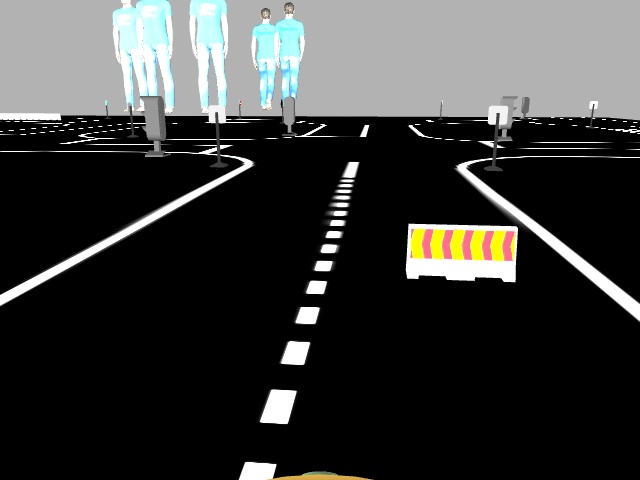ClosedRoadStand: (409, 222, 513, 280)
